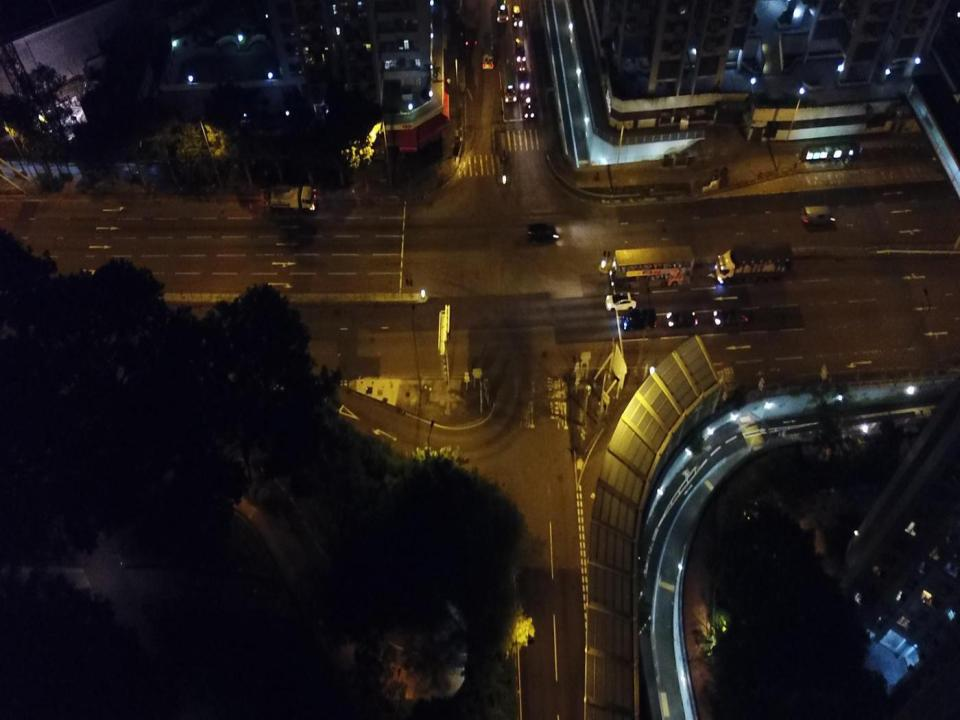bus: (608, 243, 696, 290), (501, 62, 518, 102), (480, 30, 496, 70)
car: (622, 304, 658, 332), (712, 305, 749, 328), (799, 204, 836, 226), (604, 290, 638, 312), (525, 221, 560, 242), (666, 309, 699, 328), (520, 95, 536, 121), (513, 37, 527, 63), (495, 0, 508, 25), (516, 70, 531, 90), (512, 4, 523, 28)
truck: (714, 242, 795, 285), (263, 185, 318, 214), (464, 4, 480, 46)
